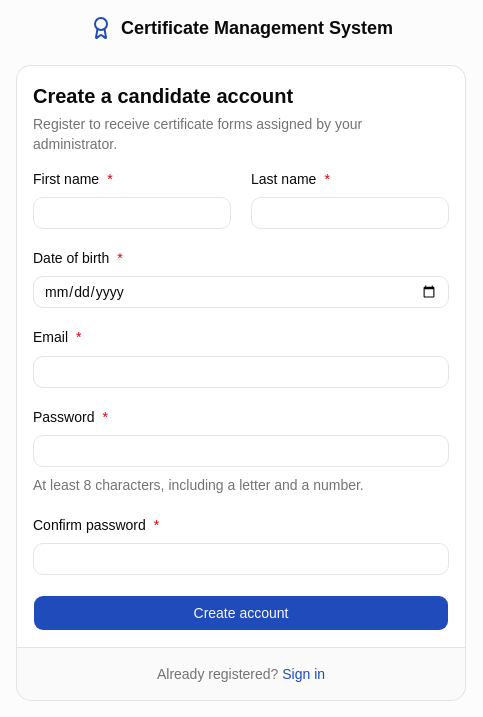
Test: registration page › blocks submission when the password confirmation does not match
Type "Jane" into the field labelled "First name *" at (132, 213), box [33, 197, 231, 229]
Type "Doe" into the field labelled "Last name *" at (350, 213), box [251, 197, 449, 229]
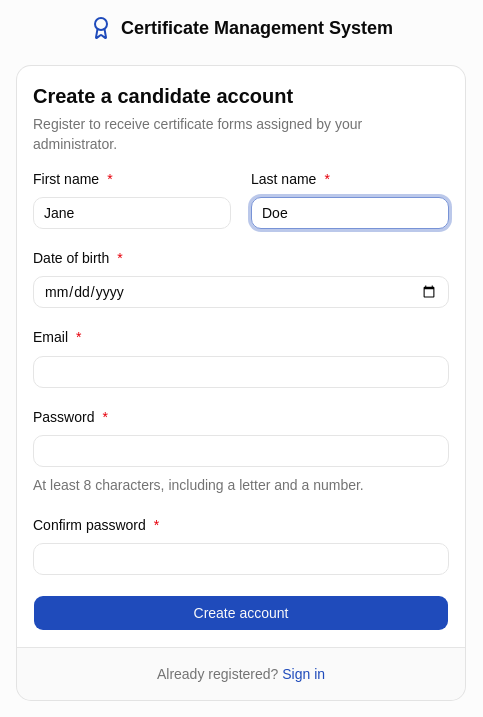
Type "1990-05-17" into the date field labelled "Date of birth *" at (241, 292), box [33, 276, 449, 308]
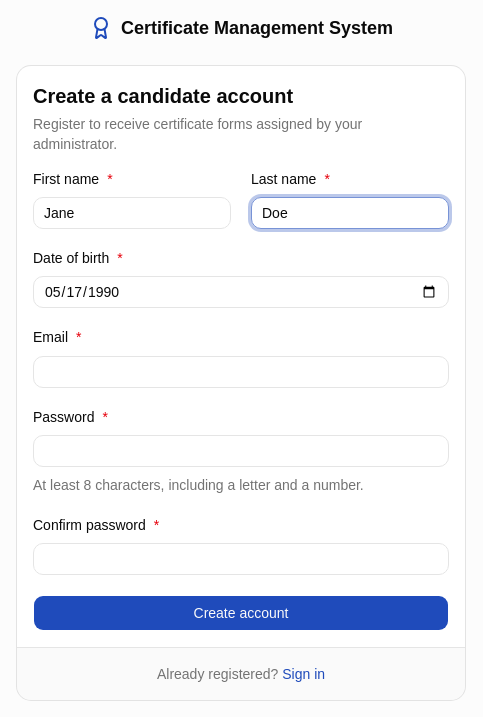
Type "jane.doe@example.com" into the field labelled "Email *" at (241, 372), box [33, 356, 449, 388]
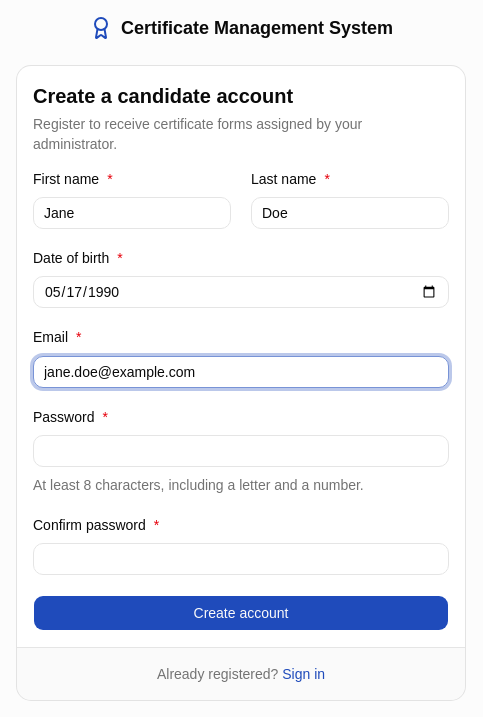
Type "Secret123" into the password field labelled "Password *" at (241, 451), box [33, 435, 449, 467]
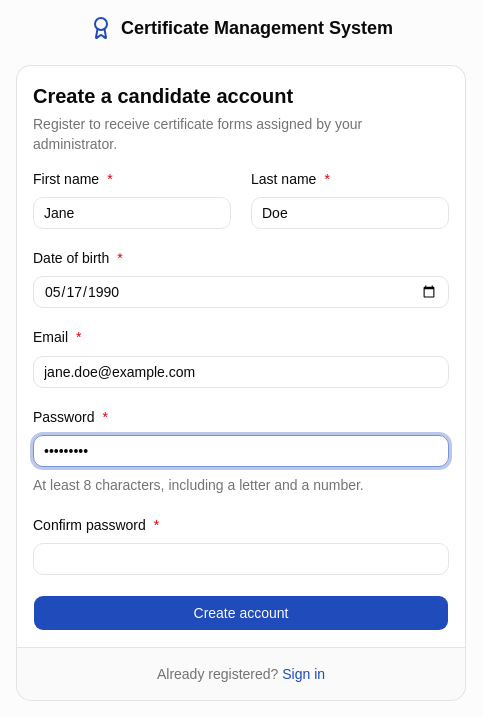
Type "Different123" into the password field labelled "Confirm password *" at (241, 559), box [33, 543, 449, 575]
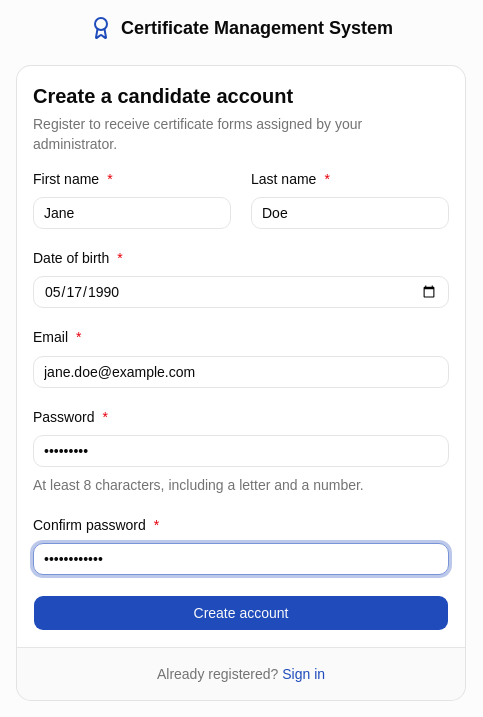
Click the button "Create account" at (241, 613), box [33, 595, 449, 631]
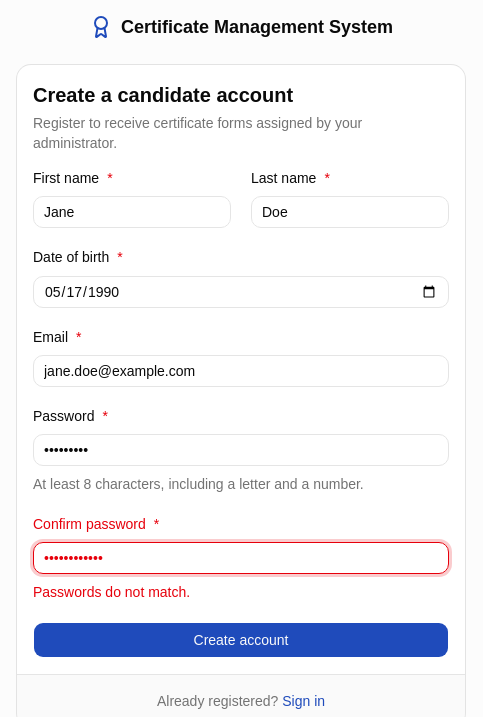
Check: the text "Passwords do not match." is shown, box [33, 584, 190, 600]
